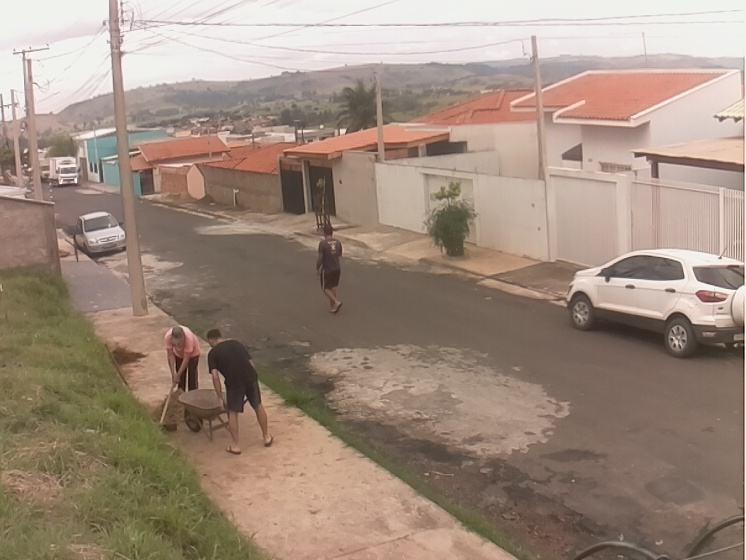person: (205, 327, 275, 456), (314, 226, 345, 314), (163, 325, 201, 393)
